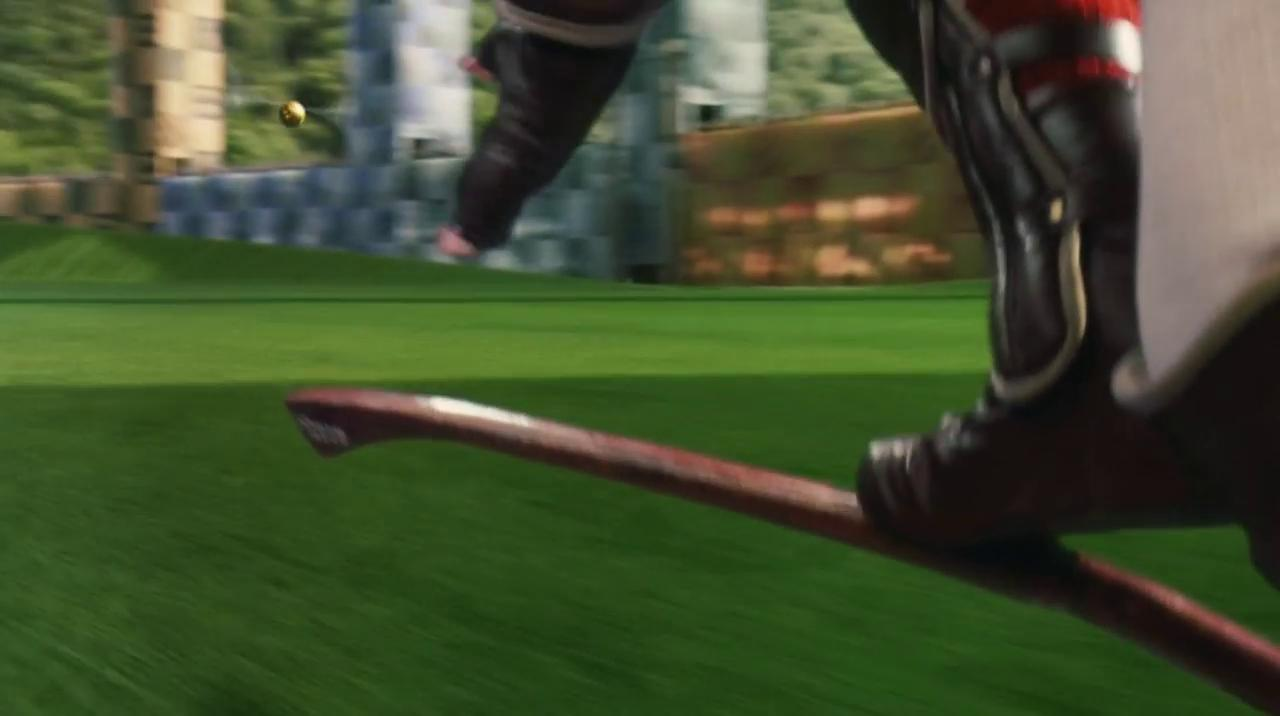snitch: (277, 97, 306, 130)
